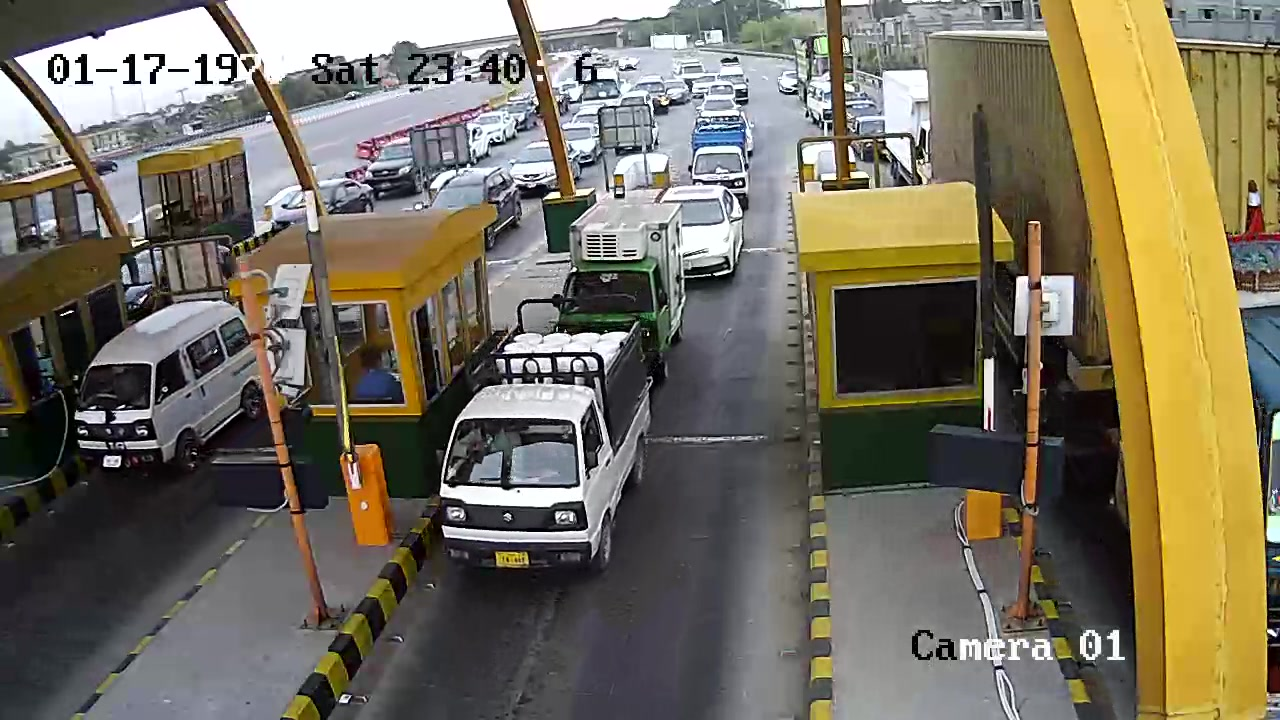F1: (434, 288, 651, 585)
